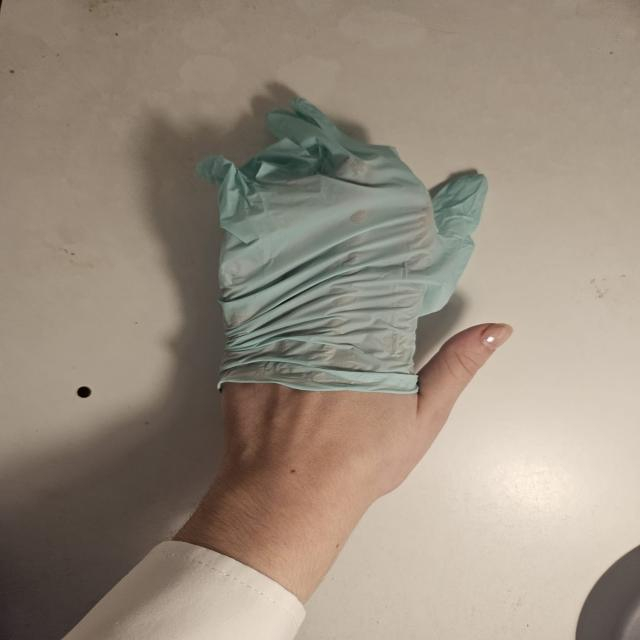glove_partial: (194, 94, 515, 491)
